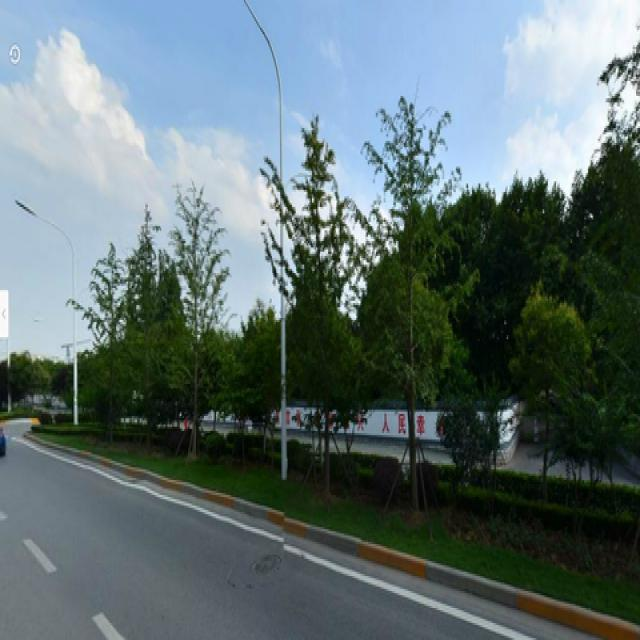gink: (171, 198, 228, 454)
